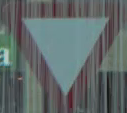Give way: (9, 5, 119, 98)
